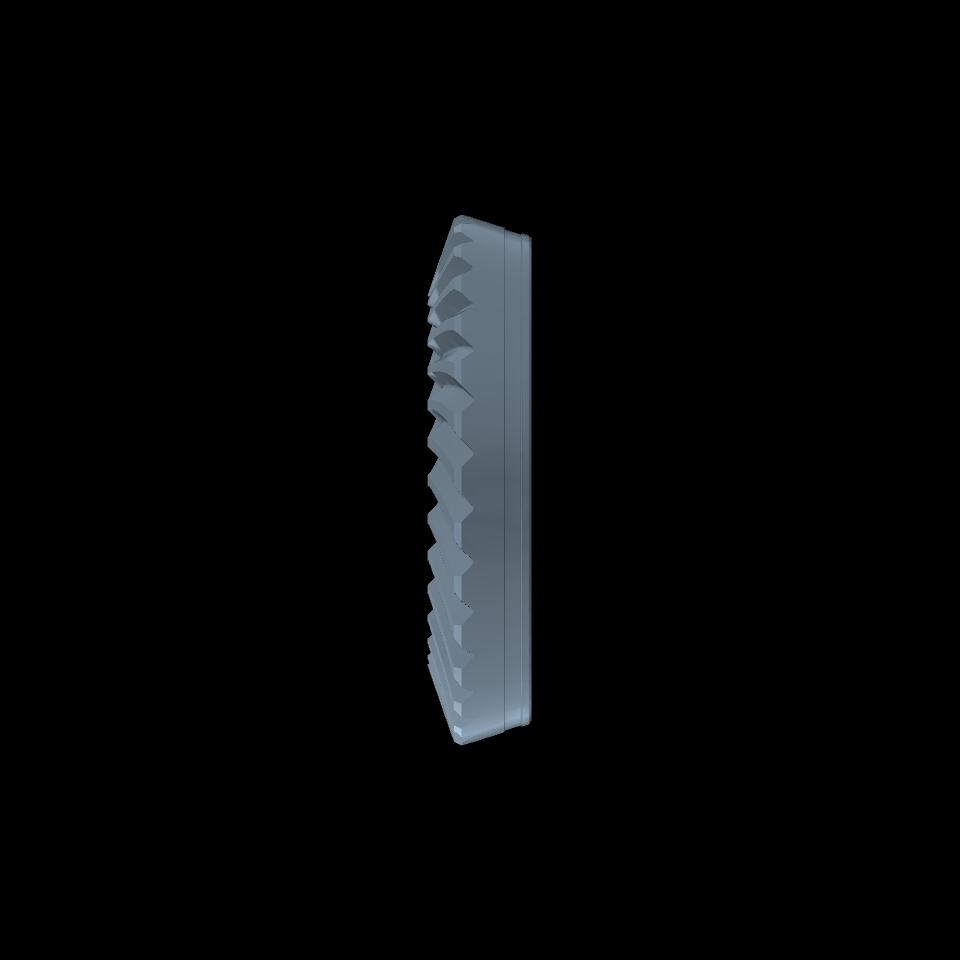Straight: (425, 214, 531, 744)
